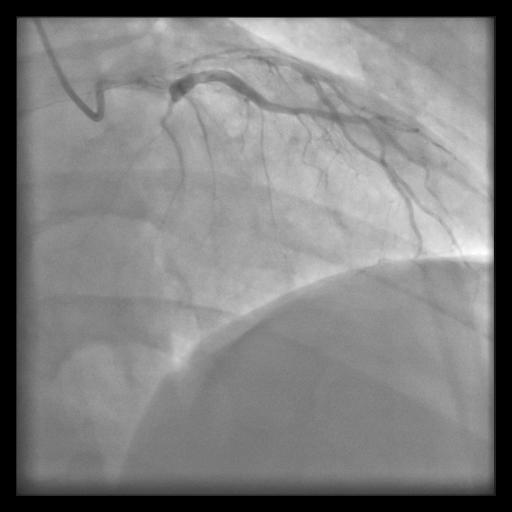Stenosis: (154, 76, 178, 107)
